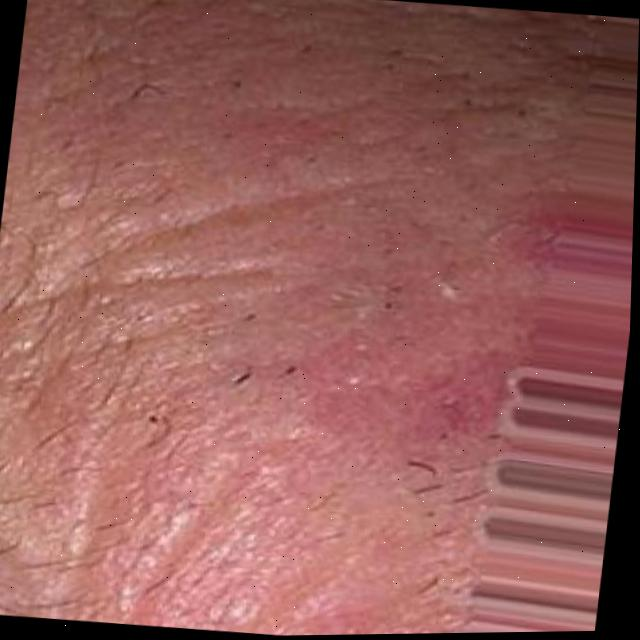Rosacea: (317, 183, 556, 452), (216, 93, 364, 165)
